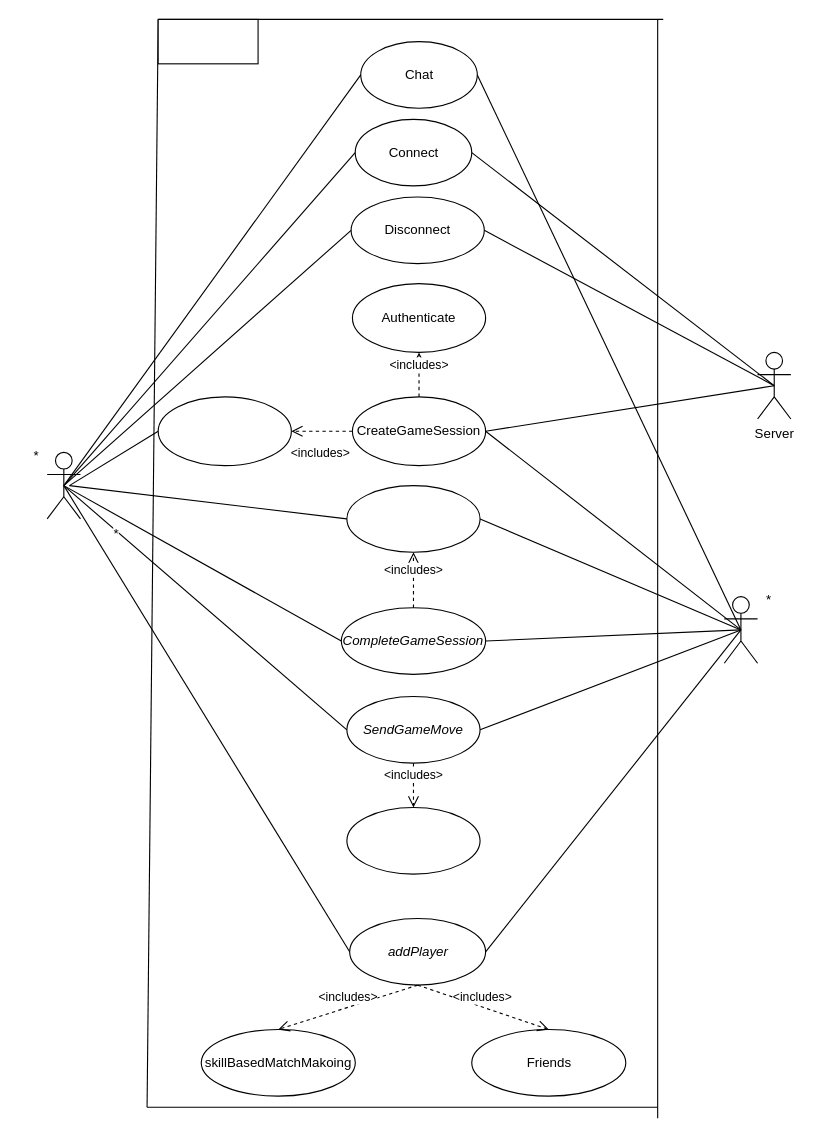
Image size: 813x1139. Some labels were removed from this diagram. Here are the shapes that lost their labels. From the top down, the centre of each, then its label:
the point at 207,41: Network
the point at 224,431: reviceGameMode
the point at 63,485: Client
the point at 413,518: LeaveGameSession
the point at 740,629: GameSession
the point at 413,840: ProcessMove
